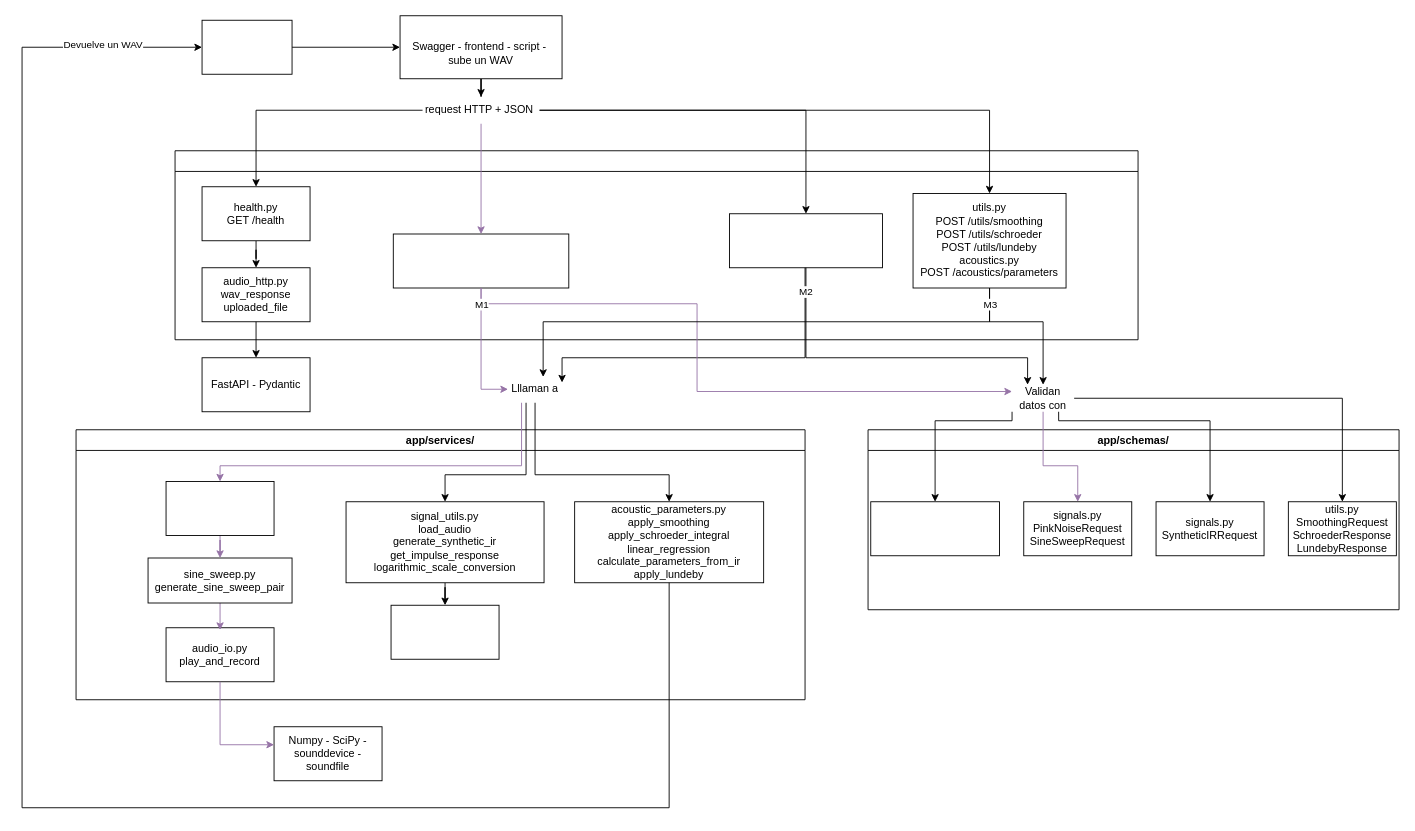
This 1415x831 diagram has some shape labels left out. Each missing label, with the box of its shape:
app/routers/: (174, 150, 1138, 340)
Cliente: (201, 19, 292, 74)
filter.py filter_single_band: (390, 604, 499, 659)
filters.py POST /filters/single-band signals.py POST /signals/synthetic-ir: (729, 213, 882, 268)
pink_noise.py generate_pink_noise: (165, 481, 274, 536)
responses.py HealthResponse BandAnalysisResponse: (870, 501, 999, 556)
signals.py POST /signals/pink-noise POST /signals/sine-sweep: (392, 233, 569, 288)
